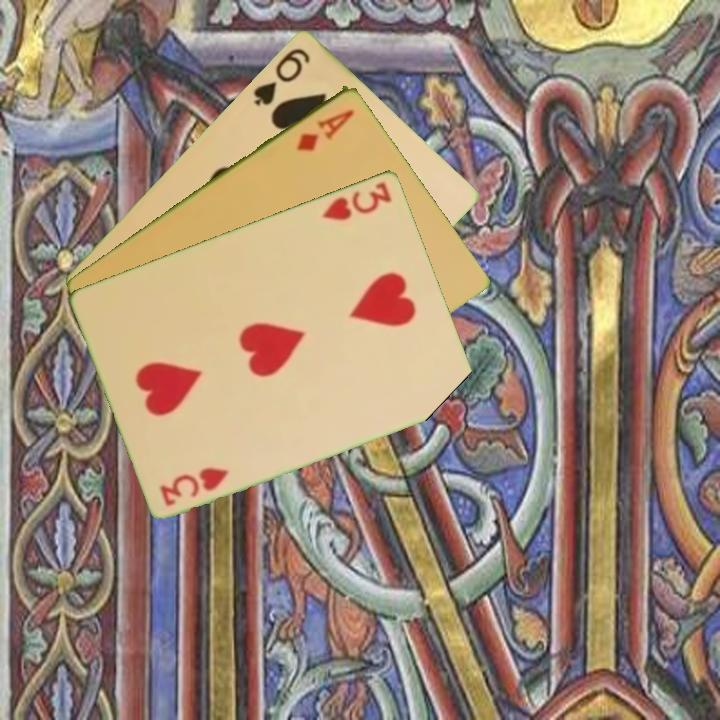3h: (319, 177, 395, 223), (156, 463, 232, 509)
6s: (249, 44, 313, 109)
Ad: (293, 105, 358, 154)
